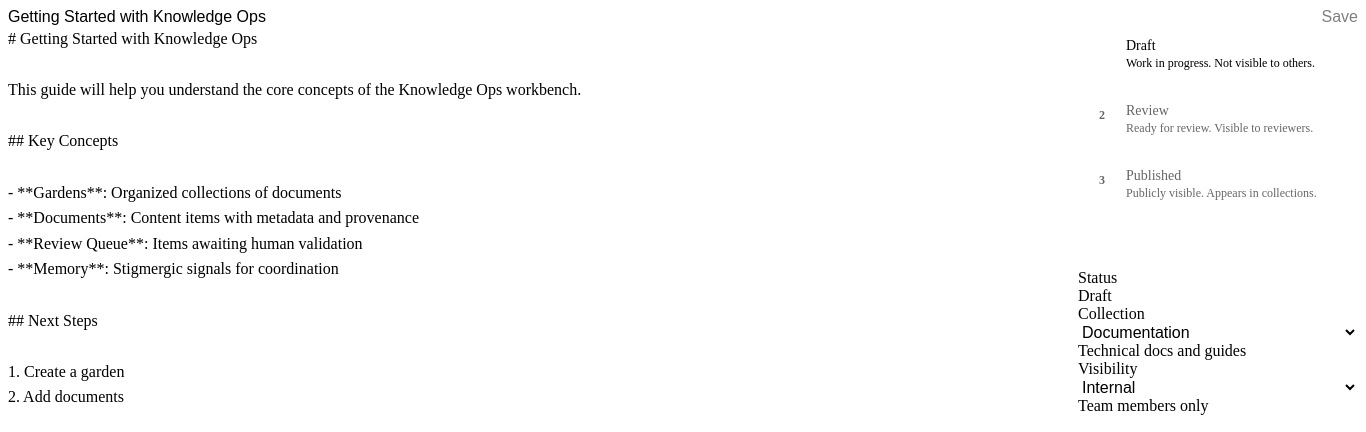
Scenario: ContentEditorPage › clears dirty indicator after save
// Make a change
Step 1. Type "!" into the field with placeholder "Untitled document" → (308, 17), box [8,8,608,26]
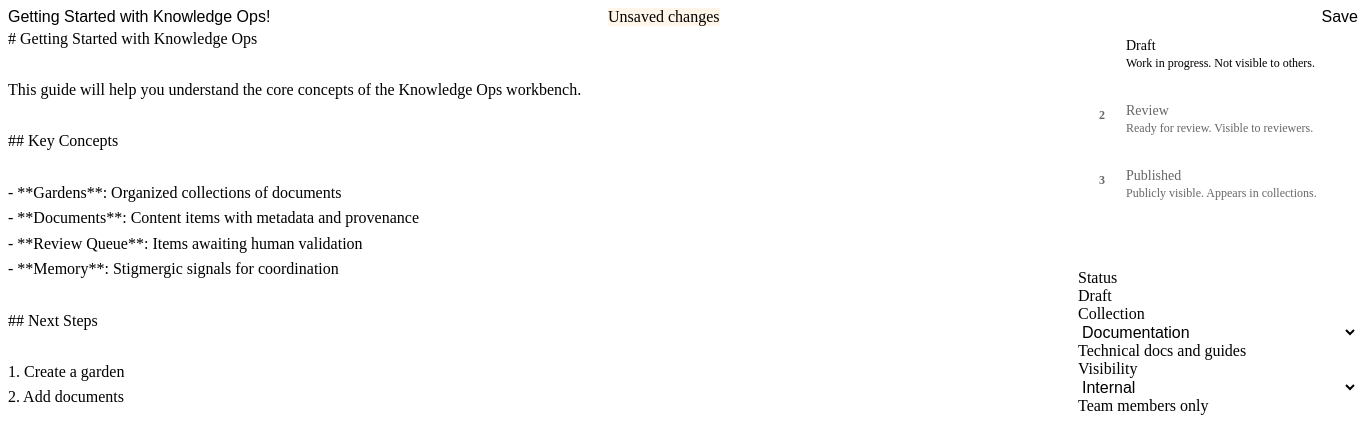
Check: the text "Unsaved changes" is shown, box [608,8,720,26]
Step 2. Click the button "Save" → (1340, 17), box [1322,8,1358,26]
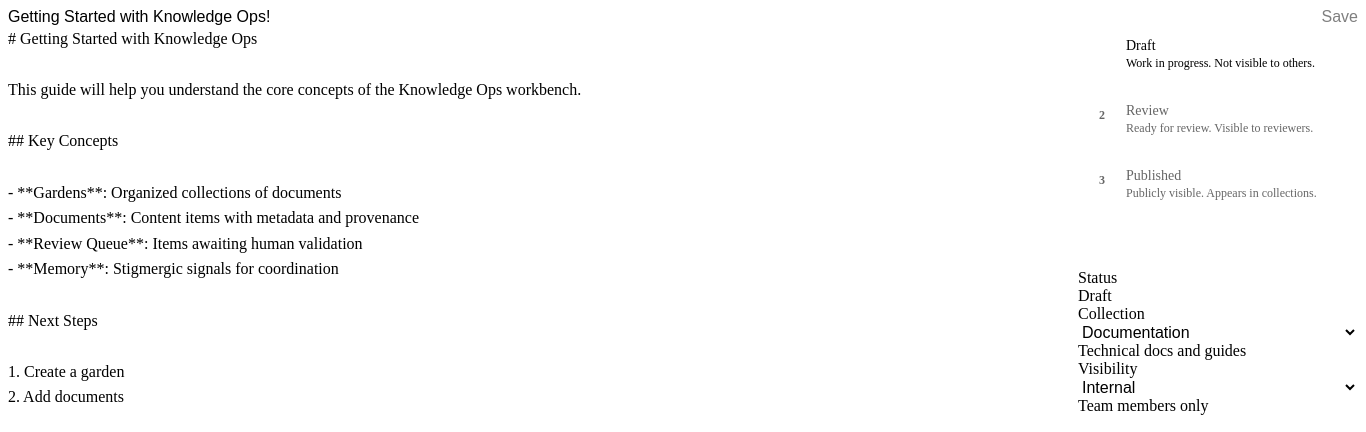
Check: the text "Unsaved changes" is gone
